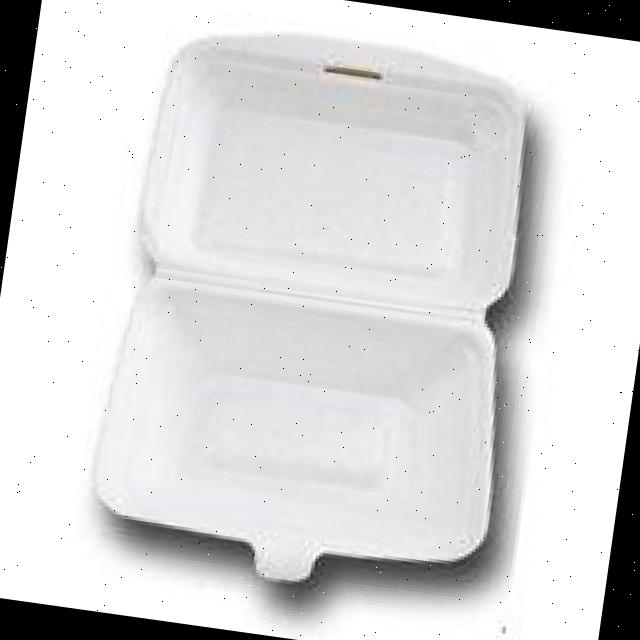styrofoam: (76, 6, 556, 611)
